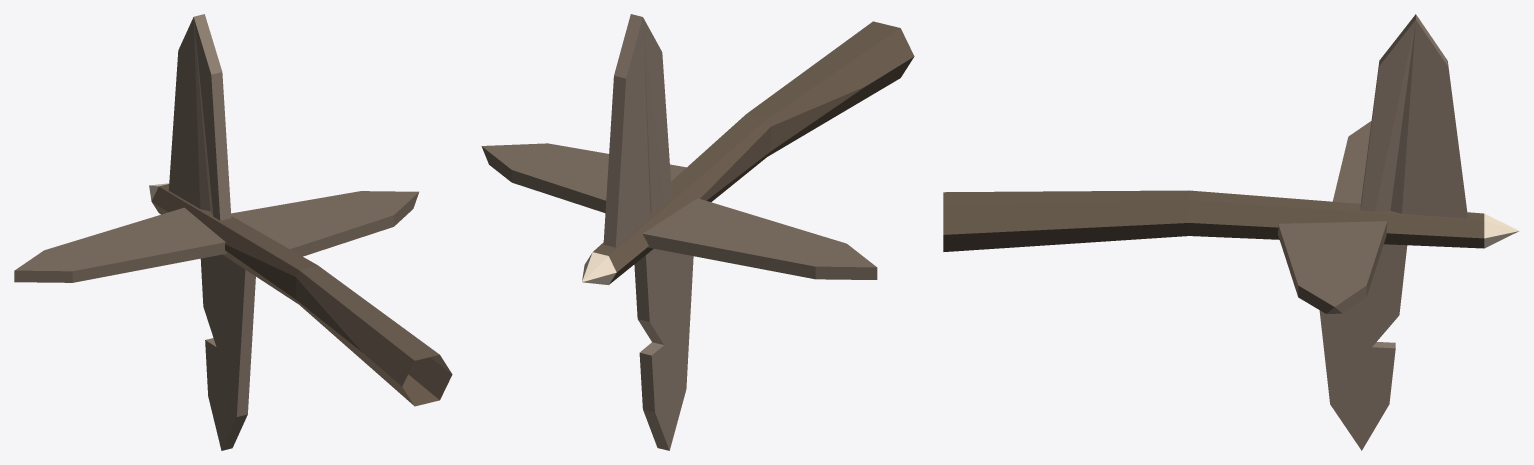
The model's file is pointer_2.glb.
The picture shows the model from 3 angles, left to right: view 1: azimuth 30°, elevation 25°; view 2: azimuth 150°, elevation 25°; view 3: azimuth 270°, elevation 25°; orthographic projection. The views are drawn at different scales.
Parts seen in each view (by area): view 1: pointer_2; view 2: pointer_2; view 3: pointer_2.
Part boxes in pixels (x1=…): pointer_2: x1=14, y1=14, x2=452, y2=450; pointer_2: x1=481, y1=14, x2=914, y2=450; pointer_2: x1=943, y1=14, x2=1519, y2=450.
Size of the model in its own units: 1.43 by 1.48 by 1.8.
Materials: 1 (1 with a texture image).
